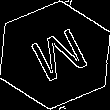M_SE: (20, 22, 90, 88)
